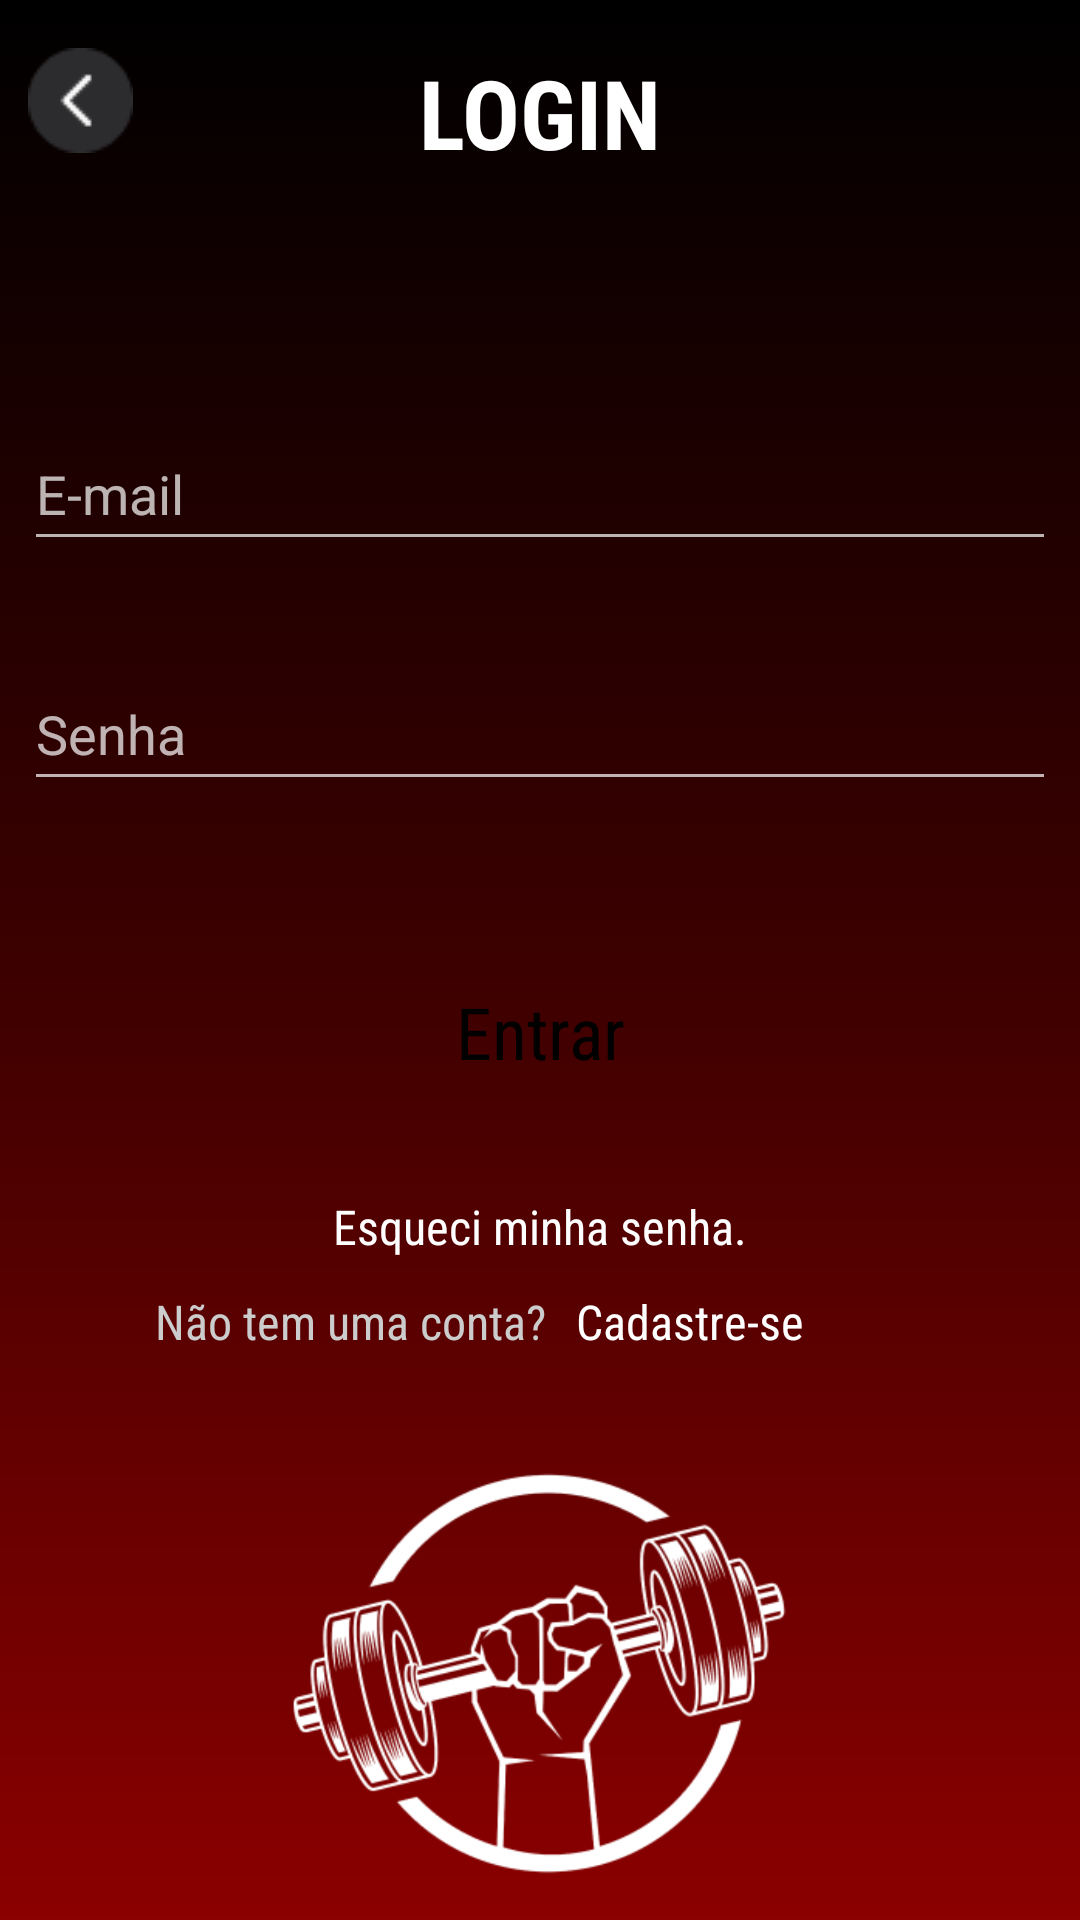

Screen size 1080x1920. Icon name, then its center in pixels as [x,y]:
circle left: [80,100]
